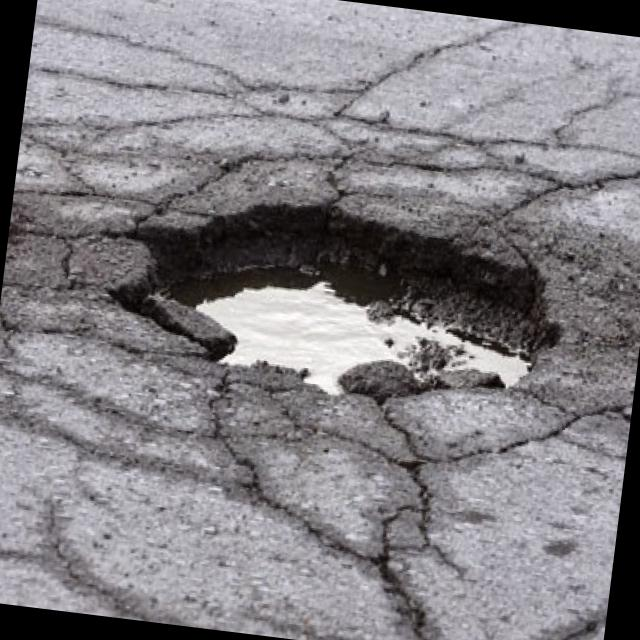Potholes: (69, 160, 554, 460)
